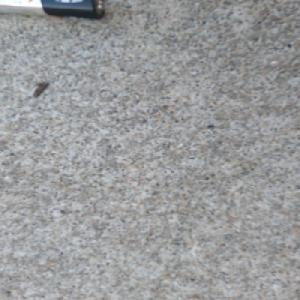Battery: (0, 0, 107, 20)
